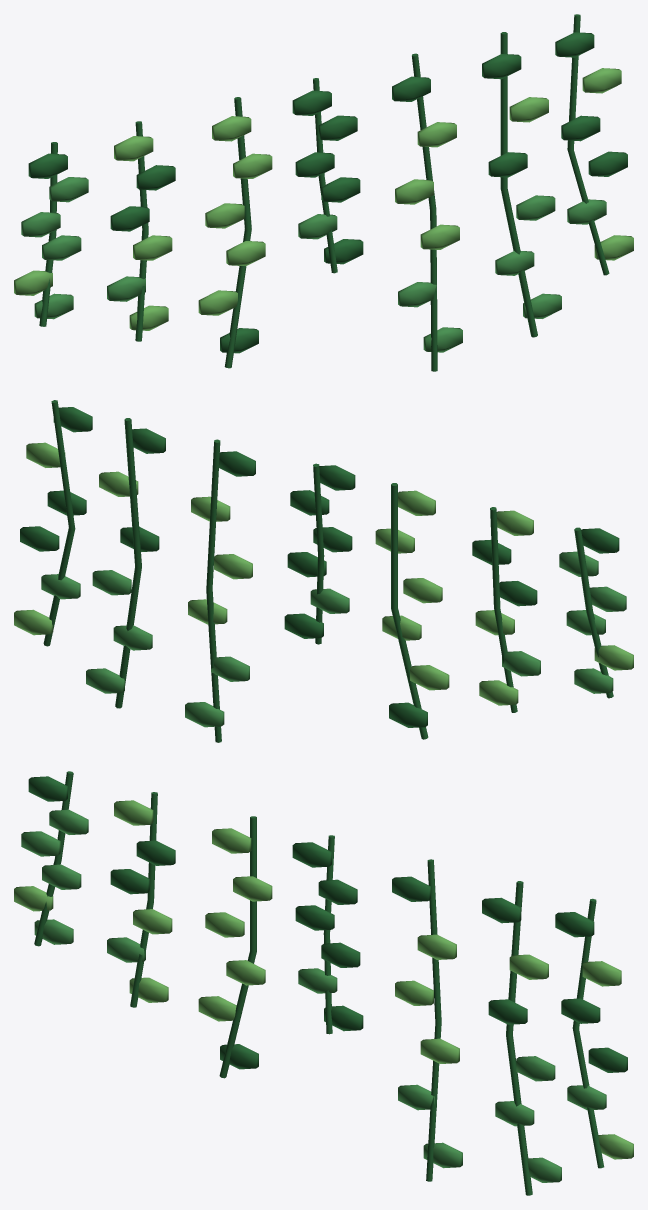
The model's file is overlay_2.fbx.
3 renders of one model, top to bottom at view 1: azimuth 30°, elevation 25°; view 2: azimuth 150°, elevation 25°; view 3: azimuth 330°, elevation 25°, orthographic.
Parts seen in each view (by area): view 1: overlay_2; view 2: overlay_2; view 3: overlay_2.
Part boxes in pixels (x1,y1,x2,y2): overlay_2: [14, 14, 633, 371]; overlay_2: [14, 400, 633, 742]; overlay_2: [14, 771, 633, 1195].
Size of the model in its own units: 4.06 by 1.95 by 0.1599.
